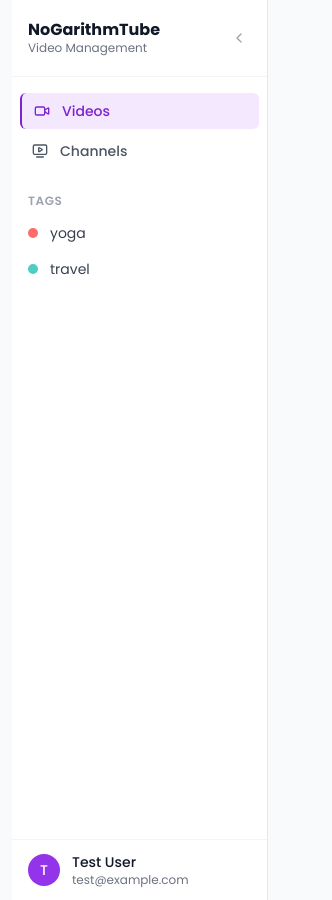
Sidebar › user dropdown › opens the user menu on avatar click
The width and height of the screenshot is (332, 900).
Click the button with class "Sidebar__user-button" at (140, 870), box [12,840,267,899]
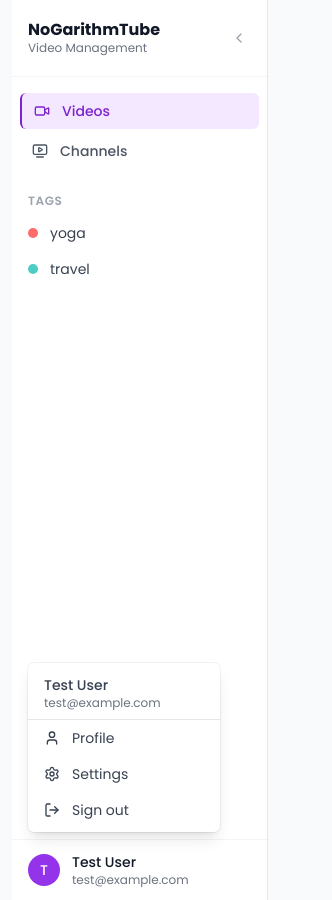
Expected: the button "Sign out" is shown, [28,792,220,828]
